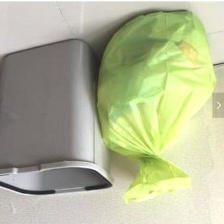plastic_bag: (87, 4, 224, 207)
